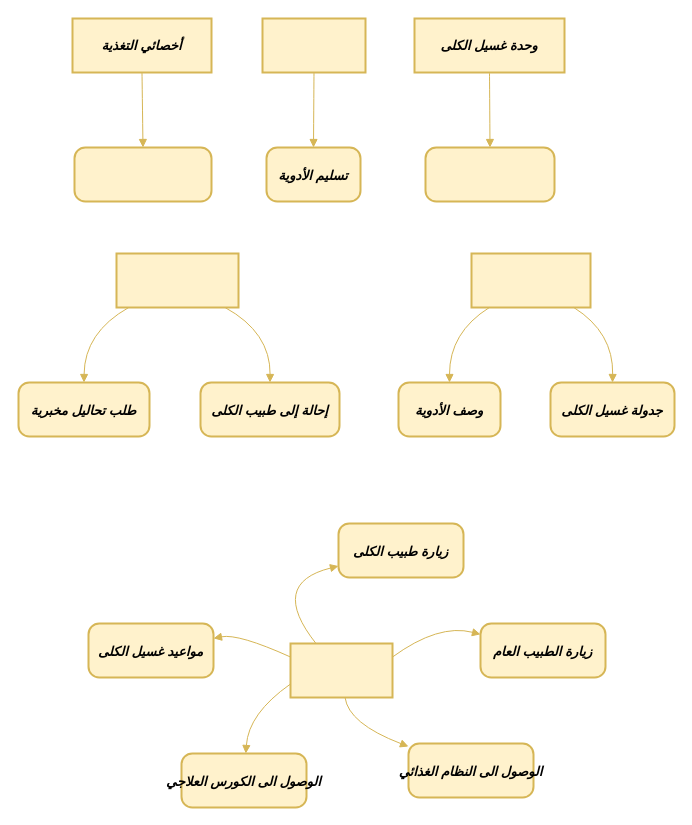
Image size: 692x825. Some labels were removed from this diagram. Here are the shapes that lost their labels. From the top down, the centre of each, then its label:
At pixel 313 45: "الصيدلية".
At pixel 142 174: "تحديث النظام الغذائي".
At pixel 489 174: "إجراء جلسة الغسيل".
At pixel 177 280: "الطبيب العام".
At pixel 530 280: "طبيب الكلى".
At pixel 341 670: "المريض".
